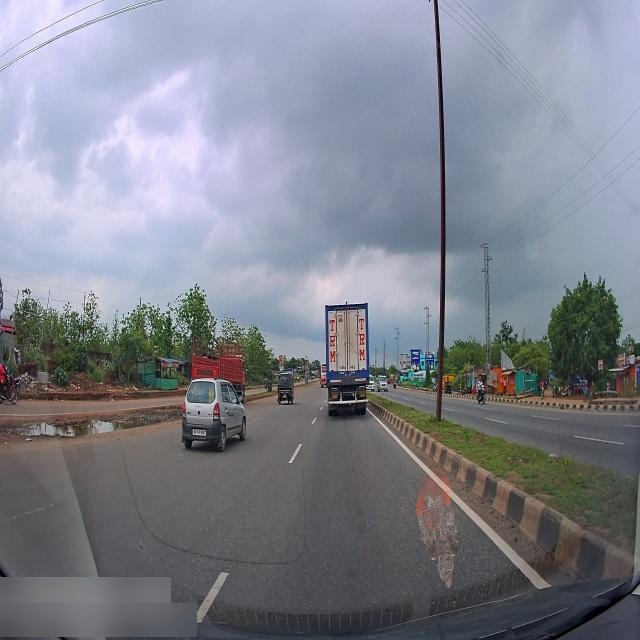pothole: (8, 402, 181, 441)
